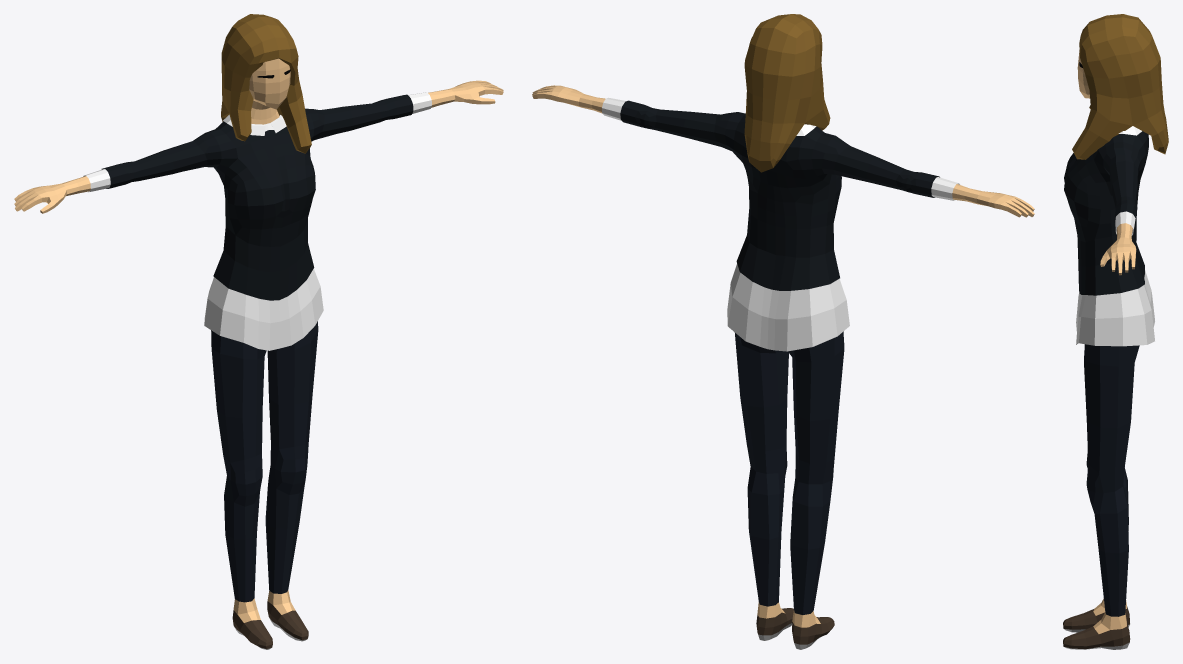
The model's file is WomanCasual3.obj.
3 renders of one model, left to right at view 1: azimuth 30°, elevation 25°; view 2: azimuth 150°, elevation 25°; view 3: azimuth 270°, elevation 25°, orthographic. The views are drawn at different scales.
Visible parts, largest first — view 1: WomanCasual3; view 2: WomanCasual3; view 3: WomanCasual3.
Part boxes in pixels (box(x1,y1,x2,y2)): WomanCasual3: box(14, 14, 503, 649); WomanCasual3: box(532, 14, 1034, 649); WomanCasual3: box(1063, 14, 1168, 649).
Size of the model in its own units: 1.41 by 1.68 by 0.2584.
1 material, 1 textured.
